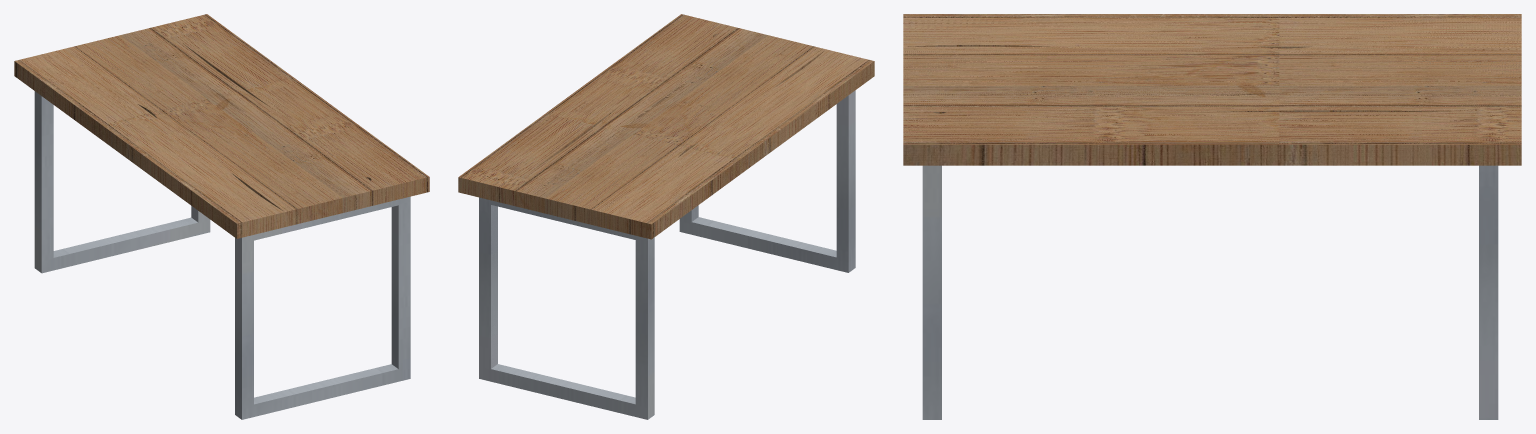
The picture shows the model from 3 angles, left to right: view 1: azimuth 30°, elevation 25°; view 2: azimuth 150°, elevation 25°; view 3: azimuth 270°, elevation 25°; orthographic projection. The views are drawn at different scales.
Parts seen in each view (by area): view 1: table_leaf, table_leg_002, table_leg, table_leaf_002, table_leg_003, table_leg_001; view 2: table_leaf, table_leg, table_leg_002, table_leaf_002, table_leg_001, table_leg_003; view 3: table_leaf, table_leaf_001, table_leg, table_leg_002.
Boxes of the visible parts, x1,y1,x2,y2 form: table_leaf: [15, 14, 429, 238]; table_leg_002: [235, 196, 410, 419]; table_leg: [34, 91, 210, 273]; table_leaf_002: [14, 61, 236, 238]; table_leg_003: [254, 205, 398, 404]; table_leg_001: [53, 206, 198, 257]; table_leaf: [458, 14, 874, 239]; table_leg: [479, 197, 654, 419]; table_leg_002: [679, 90, 855, 272]; table_leaf_002: [651, 61, 874, 238]; table_leg_001: [491, 205, 635, 404]; table_leg_003: [691, 205, 836, 257]; table_leaf: [903, 14, 1521, 144]; table_leaf_001: [903, 144, 1521, 165]; table_leg: [1479, 165, 1498, 419]; table_leg_002: [922, 165, 941, 419].
Bounding box in the file's own units: 0.8 × 1.6 × 0.81.
4 materials, 4 textured.
